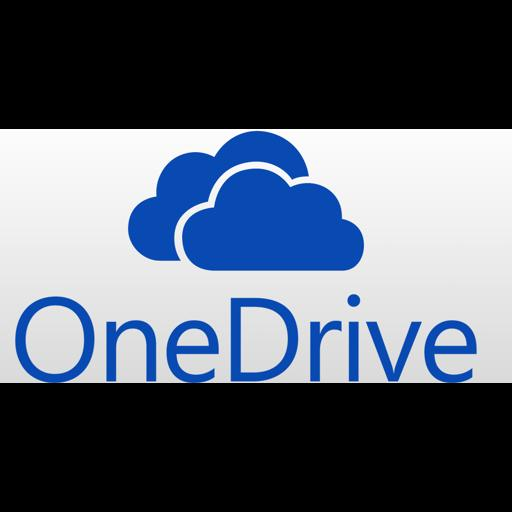Microsoft OneDrive: (0, 129, 512, 383)
